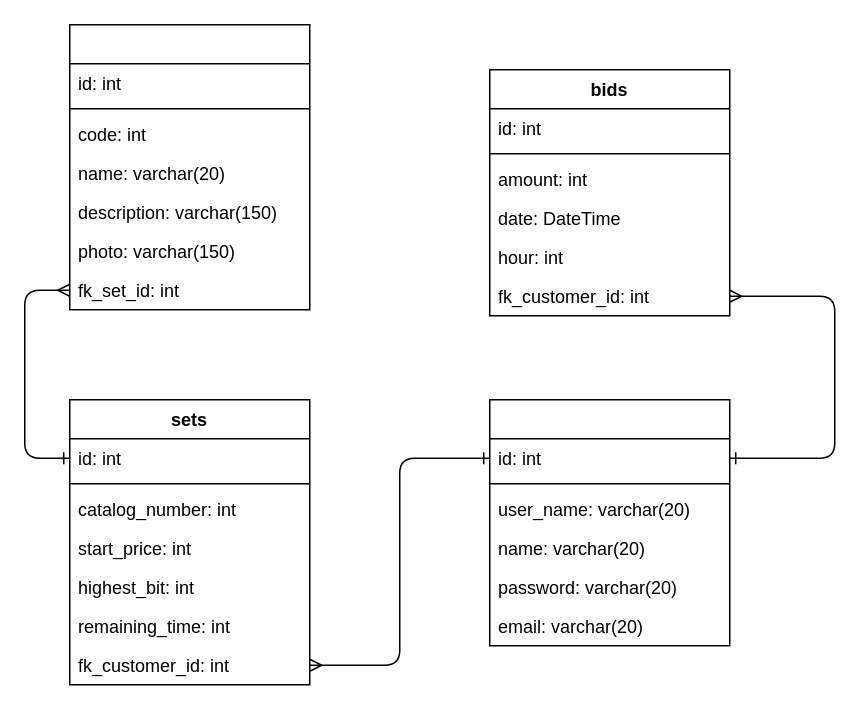
Some shapes in this 860 by 710 pixel diagram are drawn without their labels. Each missing label, with the box of its shape:
customer: (488, 398, 730, 646)
products: (68, 23, 310, 310)
